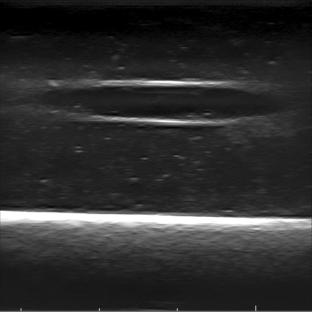vessel: (53, 79, 288, 128)
